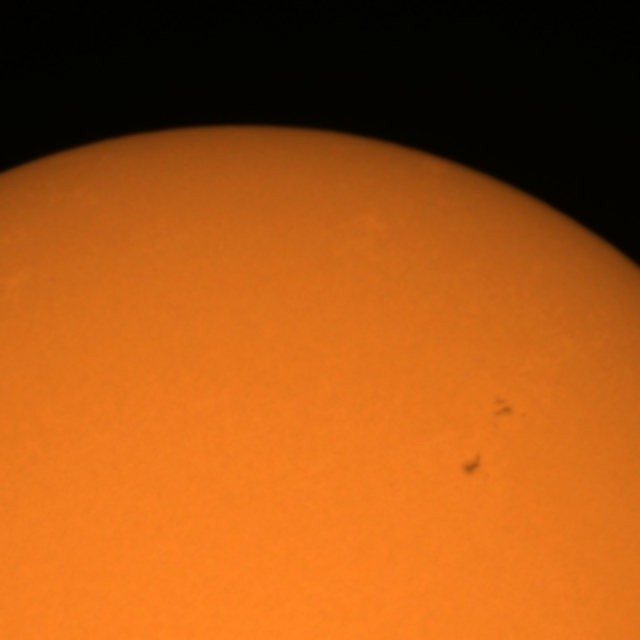sunspot: (488, 394, 528, 430), (458, 452, 489, 480)
